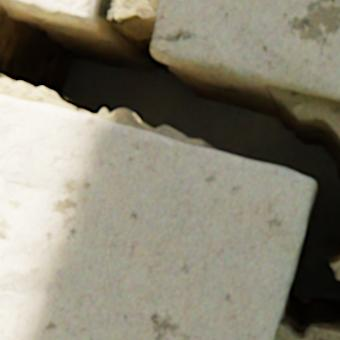brick: (0, 95, 312, 339), (151, 0, 339, 101), (0, 0, 101, 24)
crack: (0, 2, 339, 339)
